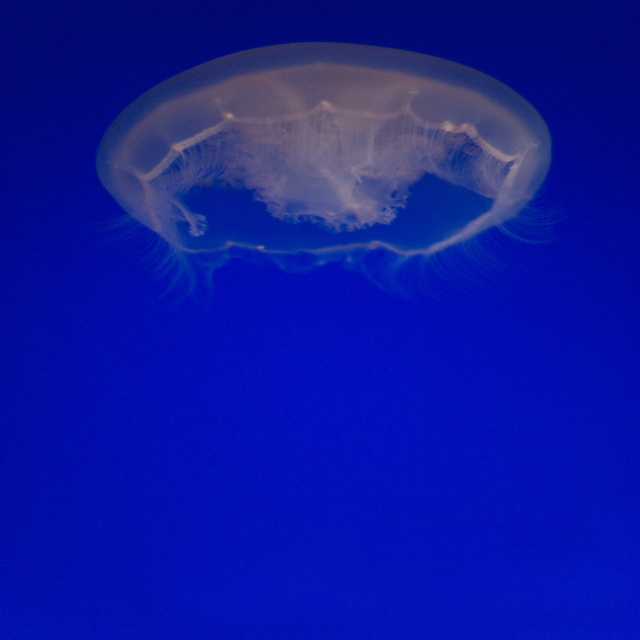Jellyfish: (90, 38, 553, 301)
